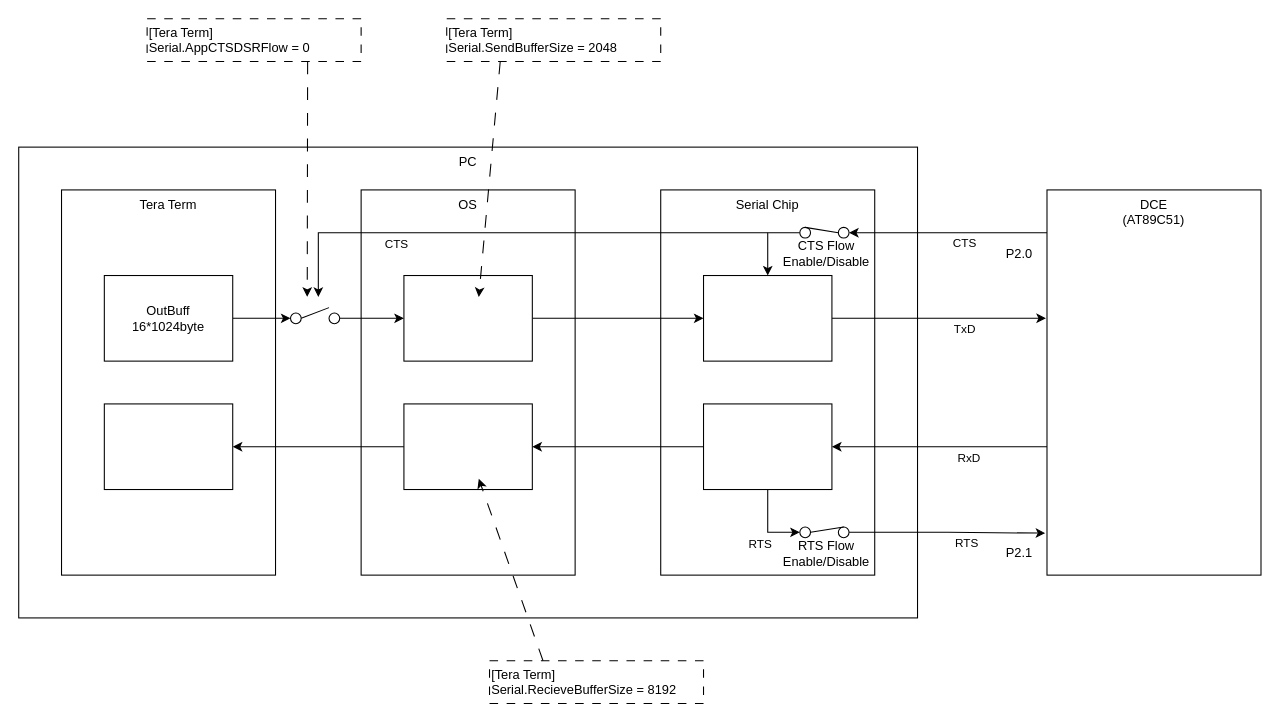
The diagram is 1280 pixels wide and 722 high, and some of its shapes have lost their labels. The shapes that lost their labels are listed below. From the top down, each one's centre as x and y in pixels, then its label:
the point at 467,317: OutQueue 2*1024byte
the point at 767,317: Send FIFO 1,8,16,128byte...
the point at 168,446: InBuff 1024byte
the point at 467,446: InQueue 8*1024byte
the point at 767,446: Receive FIFO 1,16,256byte...
